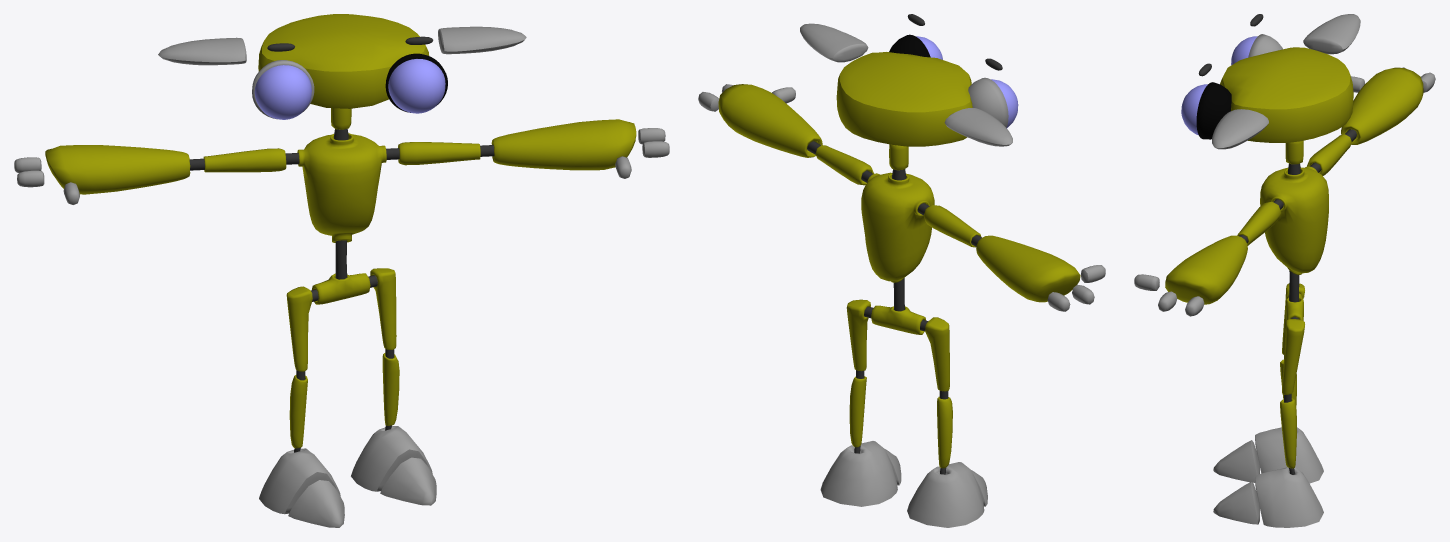
File: die12.obj
3 views of the same model, side by side, from view 1: azimuth 30°, elevation 25°; view 2: azimuth 150°, elevation 25°; view 3: azimuth 270°, elevation 25° (orthographic). The views are drawn at different scales.
Visible parts, largest first — view 1: Mesh polySurface41, Mesh polySurface50, Mesh polySurface18, Mesh polySurface37, Mesh polySurface48, Mesh polySurface6, Mesh polySurface22, Mesh polySurface10, Mesh polySurface26, Mesh polySurface8, Mesh polySurface24, Mesh polySurface47 (+8 smaller); view 2: Mesh polySurface50, Mesh polySurface41, Mesh polySurface18, Mesh polySurface48, Mesh polySurface37, Mesh polySurface26, Mesh polySurface10, Mesh polySurface47, Mesh polySurface28, Mesh polySurface44, Mesh polySurface12, Mesh polySurface21 (+8 smaller); view 3: Mesh polySurface50, Mesh polySurface41, Mesh polySurface37, Mesh polySurface18, Mesh polySurface48, Mesh polySurface10, Mesh polySurface26, Mesh polySurface44, Mesh polySurface4, Mesh polySurface12, Mesh polySurface8, Mesh polySurface24 (+11 smaller).
Part boxes in pixels (bbox=[...]): Mesh polySurface41: bbox=[297, 133, 386, 242]; Mesh polySurface50: bbox=[262, 14, 425, 71]; Mesh polySurface18: bbox=[491, 119, 636, 170]; Mesh polySurface37: bbox=[45, 145, 190, 194]; Mesh polySurface48: bbox=[258, 42, 429, 108]; Mesh polySurface6: bbox=[388, 59, 445, 113]; Mesh polySurface22: bbox=[254, 65, 311, 119]; Mesh polySurface10: bbox=[351, 426, 432, 491]; Mesh polySurface26: bbox=[259, 448, 340, 513]; Mesh polySurface8: bbox=[380, 457, 436, 505]; Mesh polySurface24: bbox=[288, 480, 344, 527]; Mesh polySurface47: bbox=[158, 37, 245, 62]; Mesh polySurface50: bbox=[839, 52, 970, 112]; Mesh polySurface41: bbox=[861, 172, 934, 282]; Mesh polySurface18: bbox=[718, 84, 822, 157]; Mesh polySurface48: bbox=[836, 74, 972, 146]; Mesh polySurface37: bbox=[976, 235, 1080, 302]; Mesh polySurface26: bbox=[907, 462, 984, 527]; Mesh polySurface10: bbox=[820, 441, 897, 506]; Mesh polySurface47: bbox=[944, 108, 1012, 144]; Mesh polySurface28: bbox=[925, 317, 949, 391]; Mesh polySurface44: bbox=[800, 23, 866, 58]; Mesh polySurface12: bbox=[846, 299, 870, 371]; Mesh polySurface21: bbox=[968, 77, 1008, 127]; Mesh polySurface50: bbox=[1222, 47, 1350, 109]; Mesh polySurface41: bbox=[1260, 166, 1328, 274]; Mesh polySurface37: bbox=[1341, 67, 1423, 144]; Mesh polySurface18: bbox=[1165, 235, 1247, 304]; Mesh polySurface48: bbox=[1220, 72, 1353, 142]; Mesh polySurface10: bbox=[1255, 467, 1323, 527]; Mesh polySurface26: bbox=[1255, 427, 1323, 483]; Mesh polySurface44: bbox=[1212, 109, 1268, 147]; Mesh polySurface4: bbox=[1196, 82, 1231, 139]; Mesh polySurface12: bbox=[1282, 318, 1304, 394]; Mesh polySurface8: bbox=[1213, 482, 1258, 524]; Mesh polySurface24: bbox=[1213, 440, 1256, 482].
Size of the model in its own units: 16.68 by 14.23 by 8.84.
